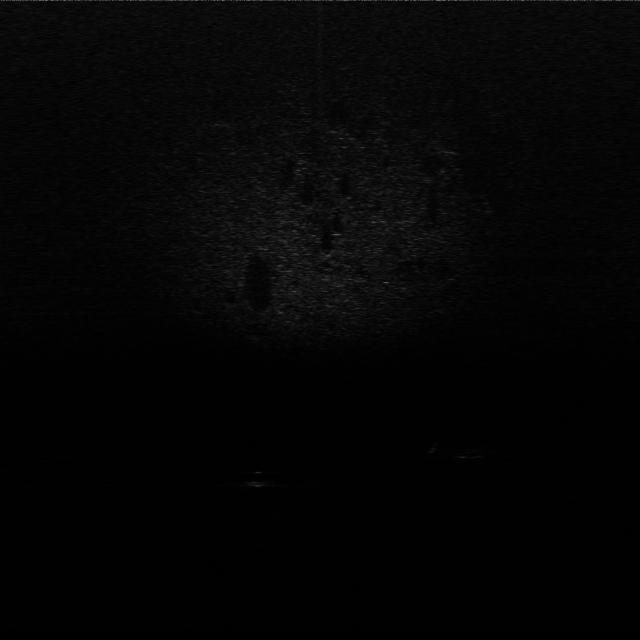ball: (242, 466, 274, 491)
human body: (426, 440, 520, 463)
